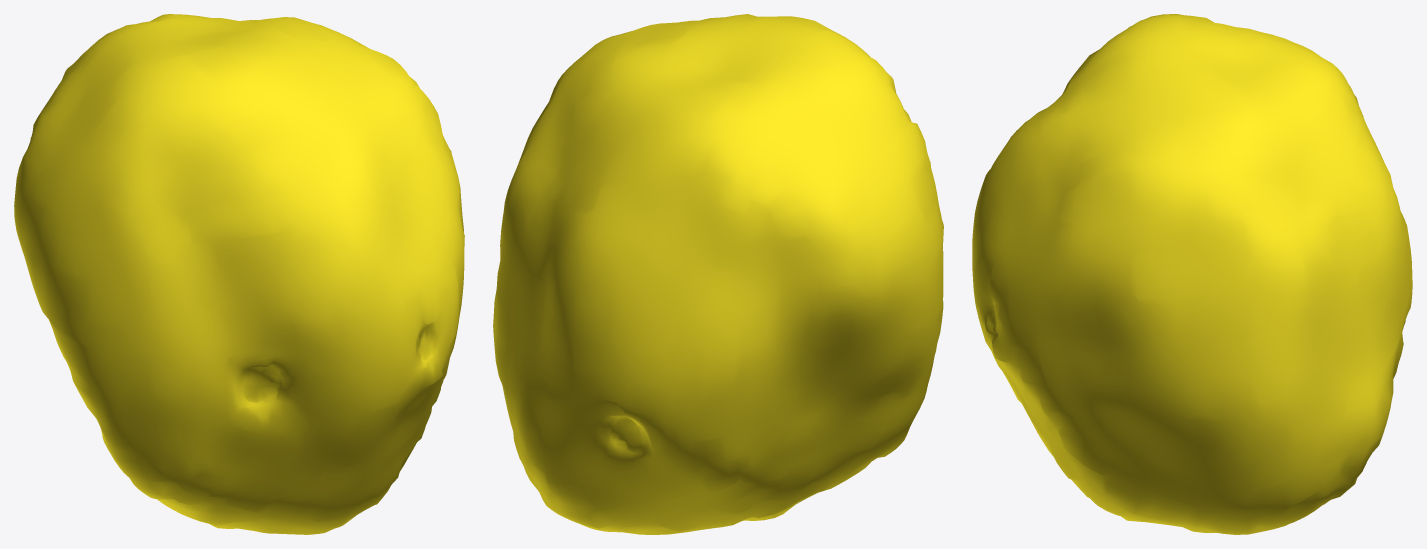
The model's file is asteroid_variant3.obj.
3 renders of one model, left to right at view 1: azimuth 30°, elevation 25°; view 2: azimuth 150°, elevation 25°; view 3: azimuth 270°, elevation 25°, orthographic. The views are drawn at different scales.
Visible parts, largest first — view 1: 10464_Asteroid_v1_Iterations-2; view 2: 10464_Asteroid_v1_Iterations-2; view 3: 10464_Asteroid_v1_Iterations-2.
Part boxes in pixels (<box>): 10464_Asteroid_v1_Iterations-2: <box>14,14,464,534</box>; 10464_Asteroid_v1_Iterations-2: <box>493,14,943,534</box>; 10464_Asteroid_v1_Iterations-2: <box>972,14,1412,534</box>.
Size of the model in its own units: 2.23 by 2.67 by 2.39.
